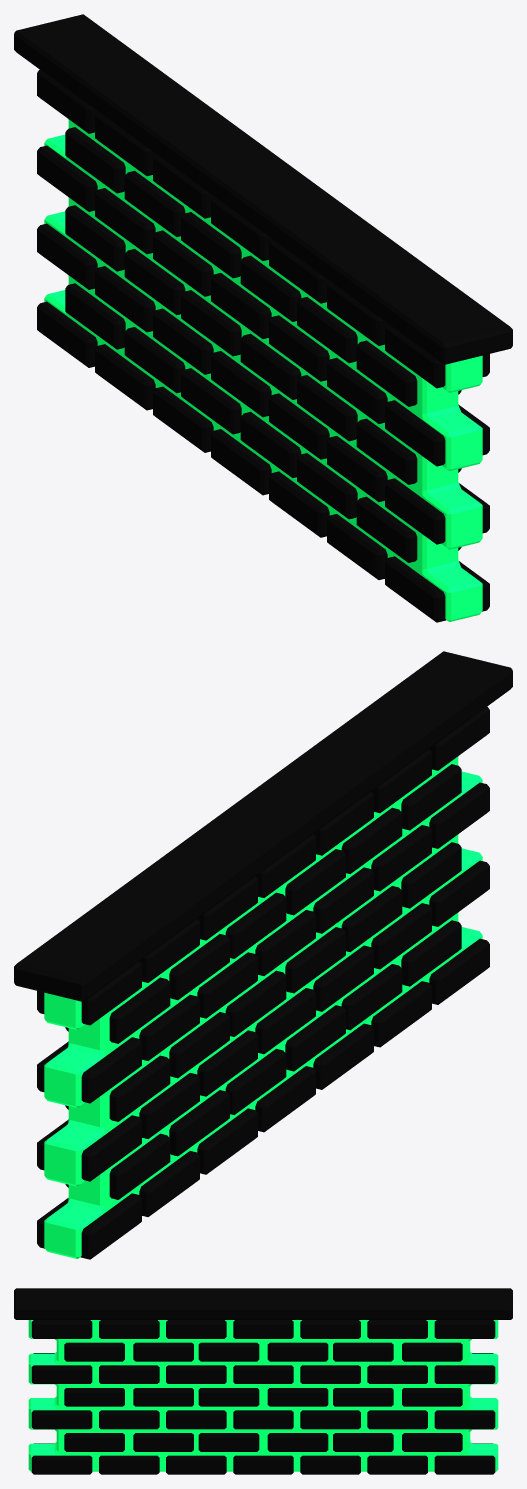
The model's file is Lvl 2 FireWall.fbx.
3 views of the same model, one above another, from view 1: azimuth 30°, elevation 25°; view 2: azimuth 150°, elevation 25°; view 3: azimuth 270°, elevation 25° (orthographic). The views are drawn at different scales.
Visible parts, largest first — view 1: Firewall; view 2: Firewall; view 3: Firewall.
Boxes of the visible parts, x1,y1,x2,y2 form: Firewall: (14, 14, 512, 622); Firewall: (14, 651, 512, 1259); Firewall: (14, 1288, 512, 1474).
Bounding box in the file's own units: 0.4375 × 1.71 × 4.55.
